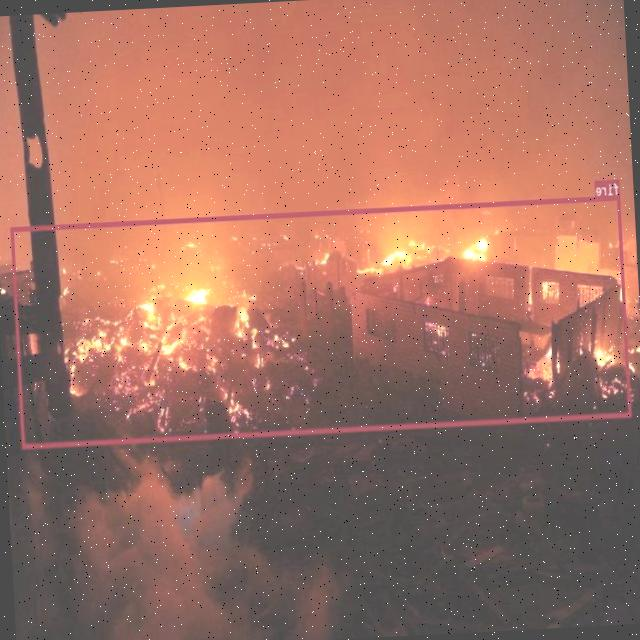fire: (11, 196, 632, 448)
